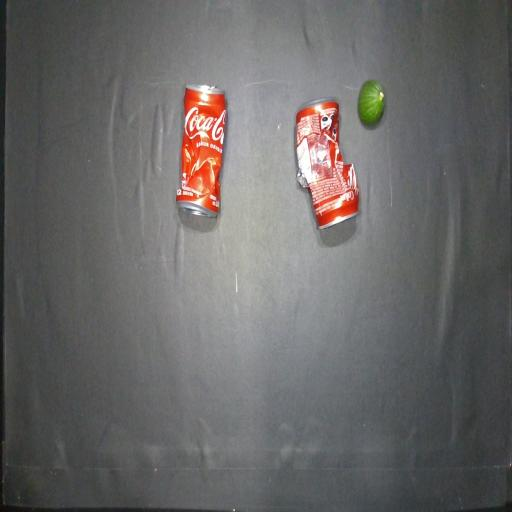higo: (358, 80, 385, 126)
lata_defectuoso: (295, 99, 359, 229), (176, 85, 226, 217)
